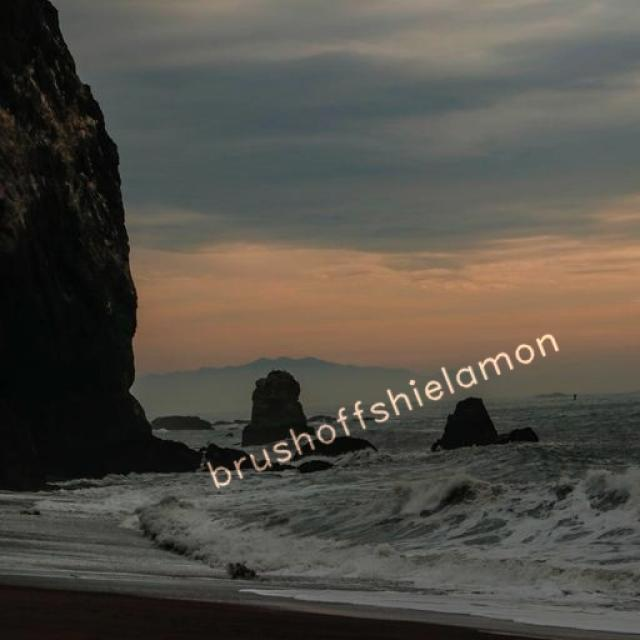watermark: (203, 318, 561, 496)
